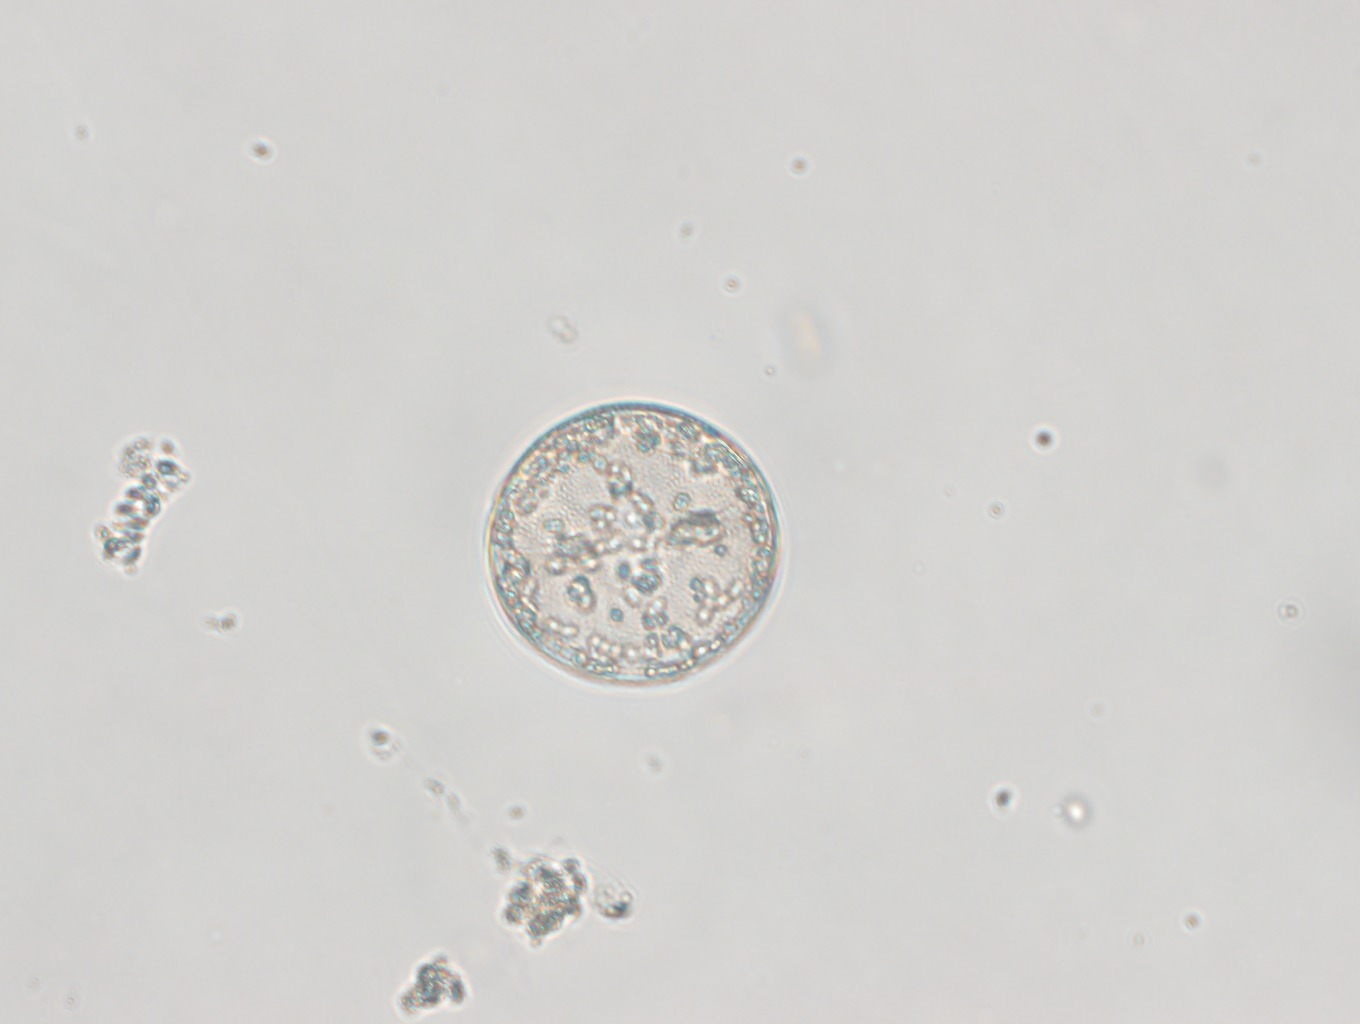coscinodiscus: (479, 400, 781, 695)
